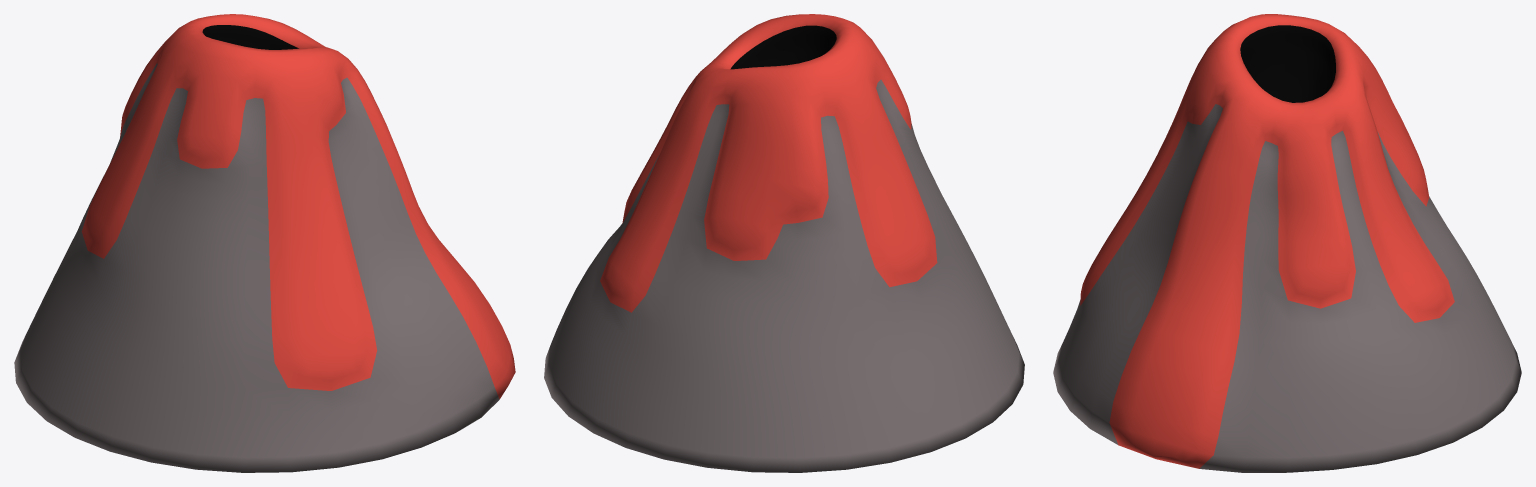
Rendered from M_Prop_Volcano.fbx.
The picture shows the model from 3 angles, left to right: view 1: azimuth 30°, elevation 25°; view 2: azimuth 150°, elevation 25°; view 3: azimuth 270°, elevation 25°; orthographic projection. The views are drawn at different scales.
Parts seen in each view (by area): view 1: Volcano; view 2: Volcano; view 3: Volcano.
Boxes of the visible parts, x1,y1,x2,y2 form: Volcano: [14, 14, 515, 472]; Volcano: [544, 14, 1024, 472]; Volcano: [1053, 14, 1521, 472].
Bounding box in the file's own units: 558 × 557 × 441.
